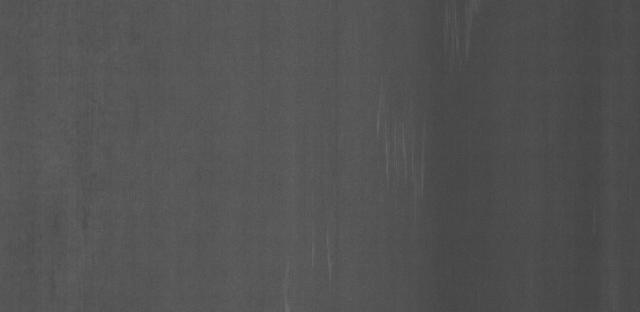silk_spot: (356, 88, 438, 208)
